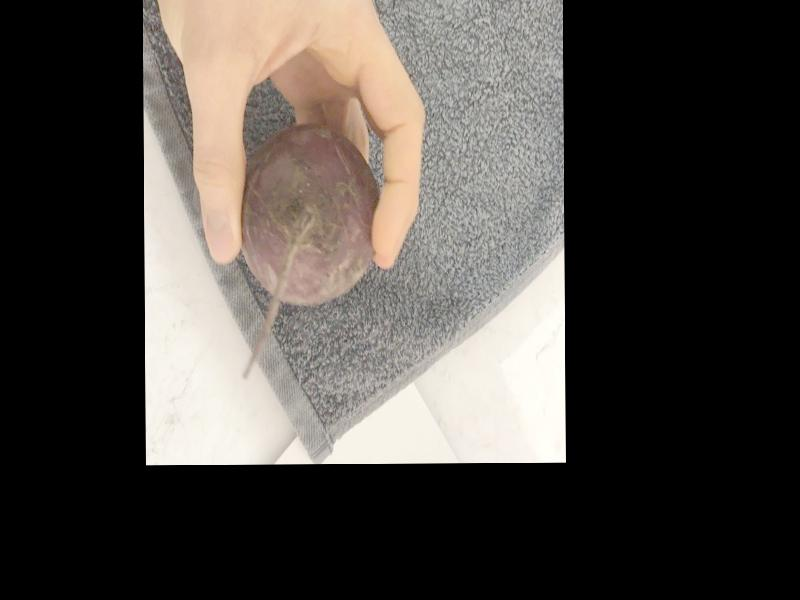Beet: (239, 124, 380, 380)
